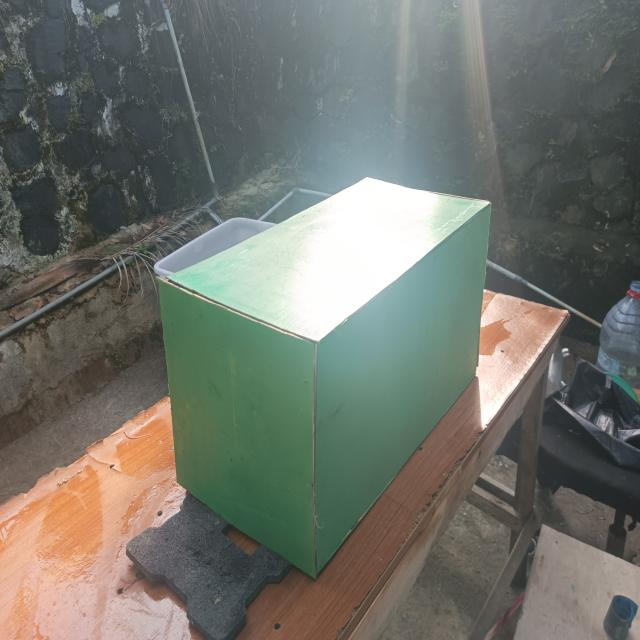green_box: (106, 167, 511, 603)
